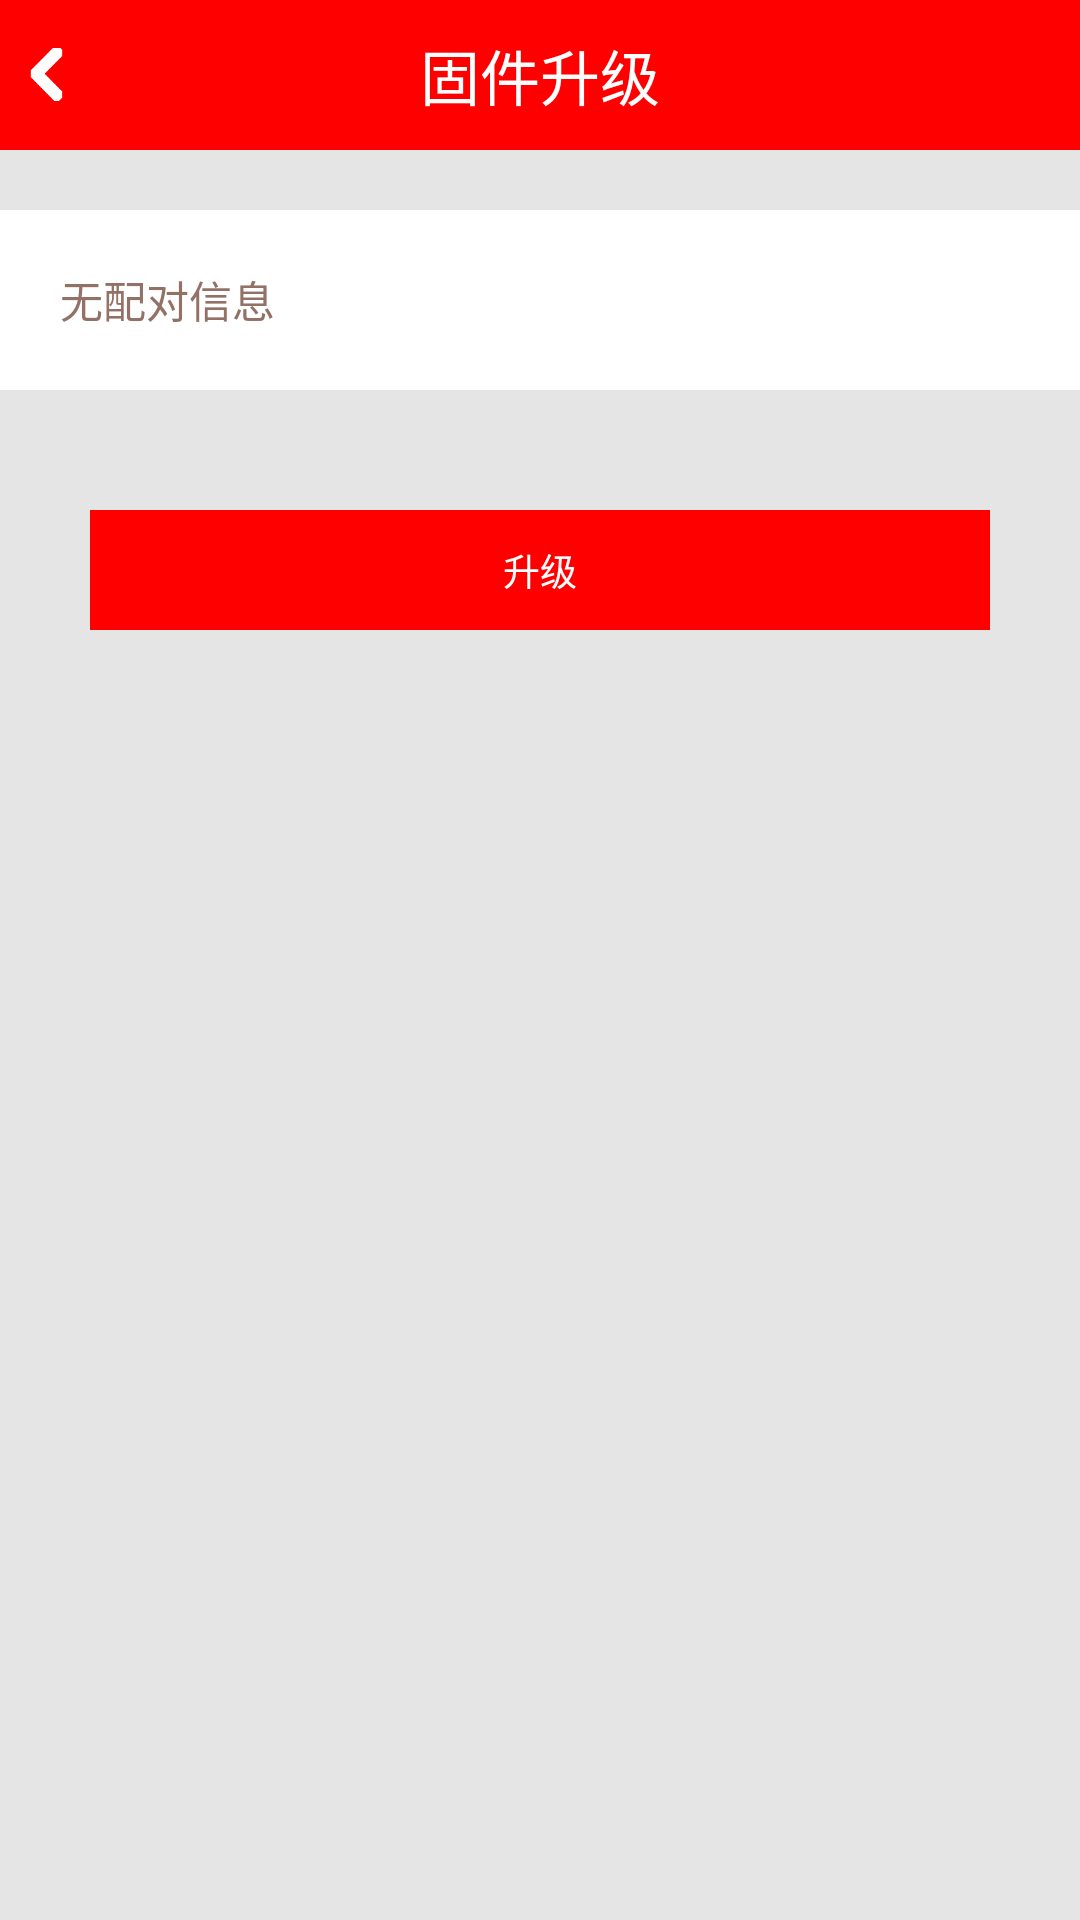

Icons on this 1080×1920 Android screen, each with its box as (x1, y1, x2, y2):
bar back: (30, 48, 63, 101)
